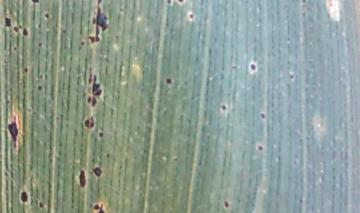tarspot: (86, 1, 114, 47), (86, 69, 104, 110), (4, 119, 22, 148), (18, 186, 29, 207), (77, 168, 88, 188), (90, 164, 104, 178), (84, 113, 95, 130), (91, 202, 107, 213), (257, 109, 269, 123), (41, 8, 52, 23), (2, 13, 11, 29), (35, 81, 45, 95), (222, 196, 230, 212), (164, 75, 175, 86), (218, 102, 230, 112), (36, 39, 45, 52), (96, 130, 107, 140), (255, 142, 265, 153), (249, 61, 258, 73), (21, 25, 29, 38), (187, 11, 196, 22), (22, 64, 30, 76), (105, 150, 112, 162), (9, 44, 18, 53), (287, 73, 296, 81), (80, 38, 86, 49), (37, 201, 45, 209), (29, 1, 41, 5), (177, 1, 188, 5), (165, 1, 175, 4)
